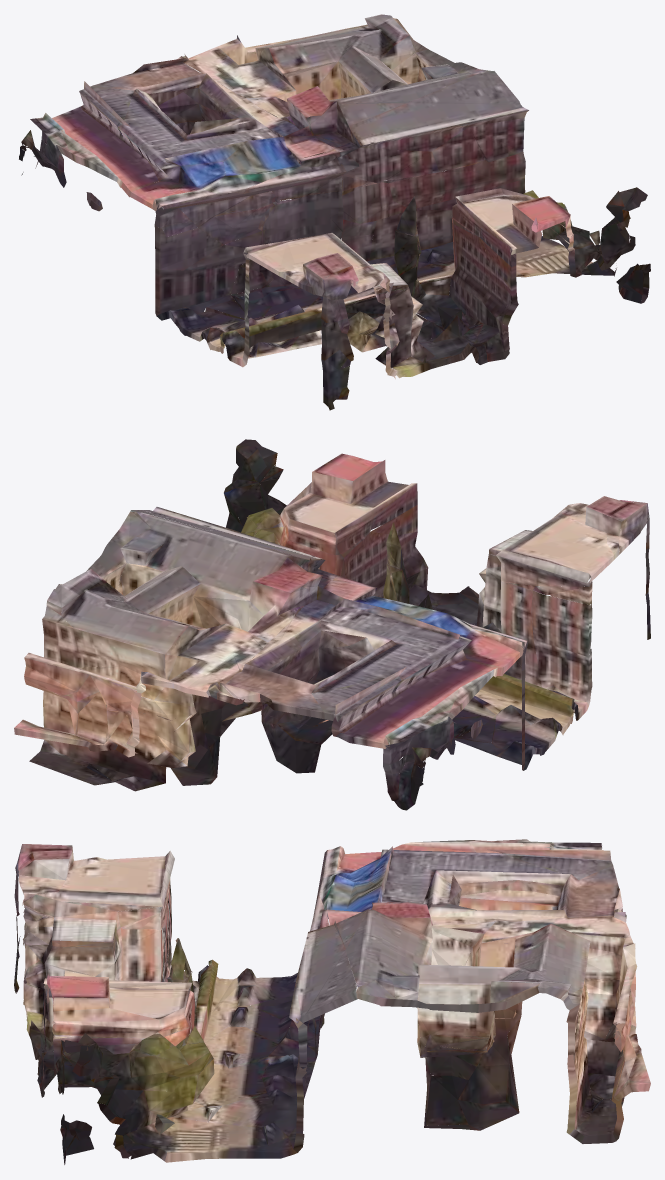
3 views of the same model, one above another, from view 1: azimuth 30°, elevation 25°; view 2: azimuth 150°, elevation 25°; view 3: azimuth 270°, elevation 25° (orthographic). The views are drawn at different scales.
Visible parts, largest first — view 1: Mesh_0; view 2: Mesh_0; view 3: Mesh_0.
Part boxes in pixels (x1,y1,x2,y2): Mesh_0: (19,14,650,410); Mesh_0: (14,439,650,810); Mesh_0: (14,839,650,1164).
Bounding box in the file's own units: 67.84 × 27.62 × 82.59.
2 materials, 2 textured.
